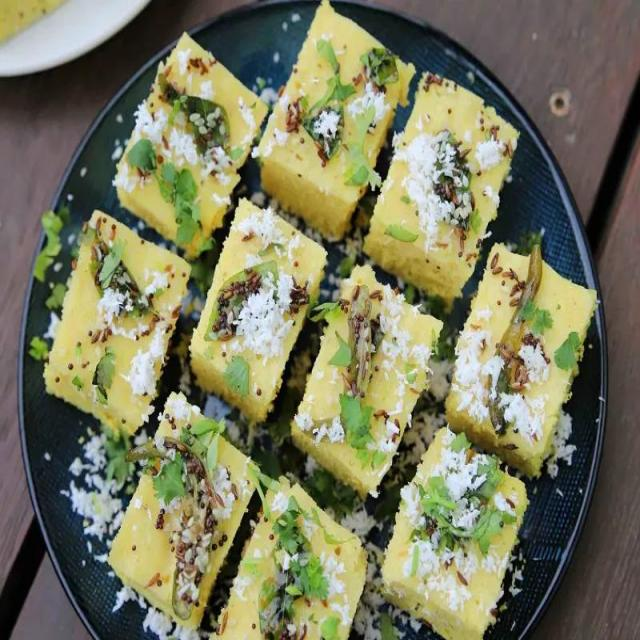dhokla: (46, 61, 566, 640)
